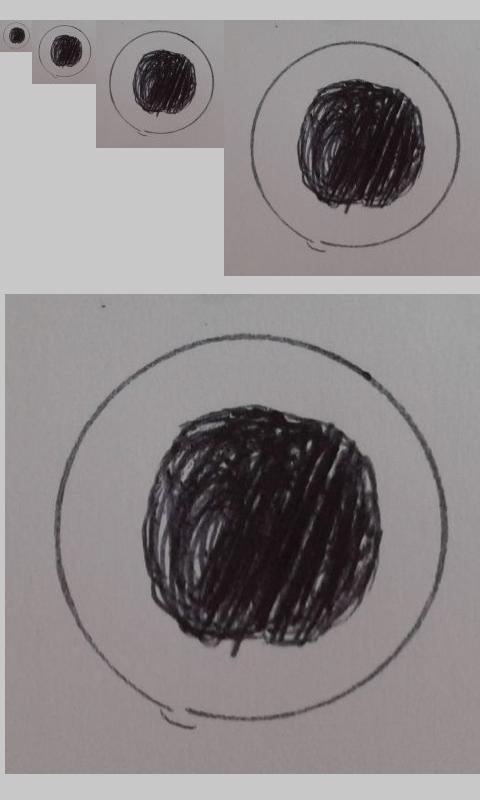radio_button: (49, 330, 449, 734), (248, 37, 462, 255), (108, 30, 216, 136), (37, 23, 92, 80), (2, 22, 30, 49)
